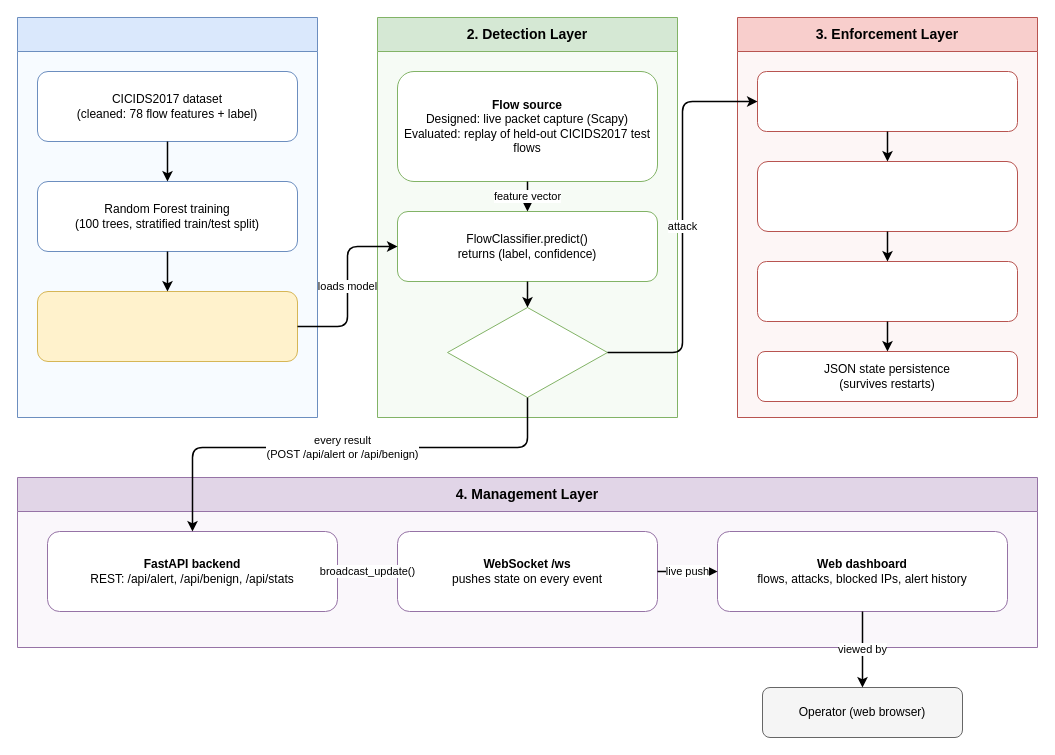
This 1055x755 diagram has some shape labels left out. The box of each missing label's shape, as (x1, y1, x2, y2) in pixels:
1. Intelligence Layer: (16, 16, 318, 418)
AdvancedFirewallEnforcer .block_attack(): (756, 70, 1018, 132)
Attack?: (446, 306, 608, 398)
iptables DROP rule (kernel level) sudo scoped to iptables only: (756, 160, 1018, 232)
rf_model.pkl (trained model artefact): (36, 290, 298, 362)
TTL-bounded blocklist (blocks expire automatically): (756, 260, 1018, 322)
